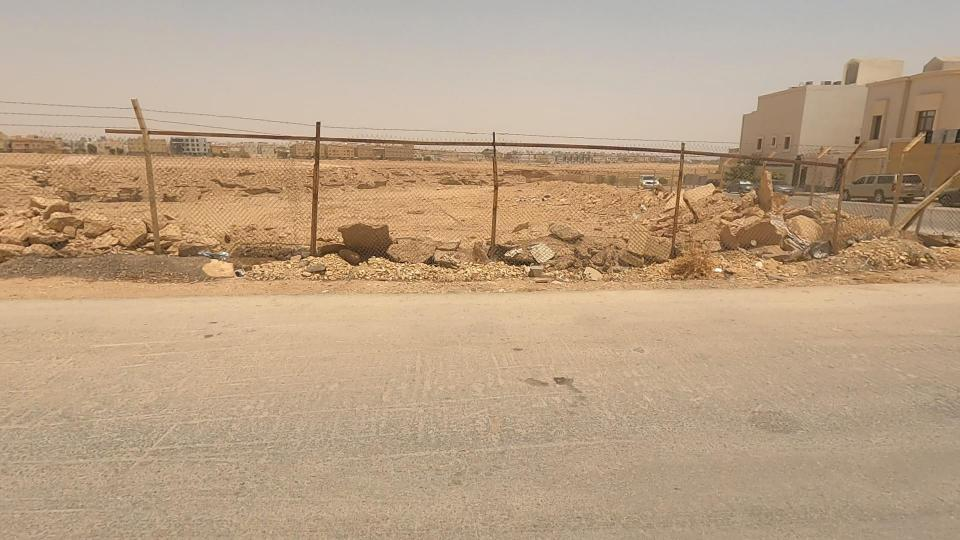GARBAGE: (738, 193, 870, 290)
